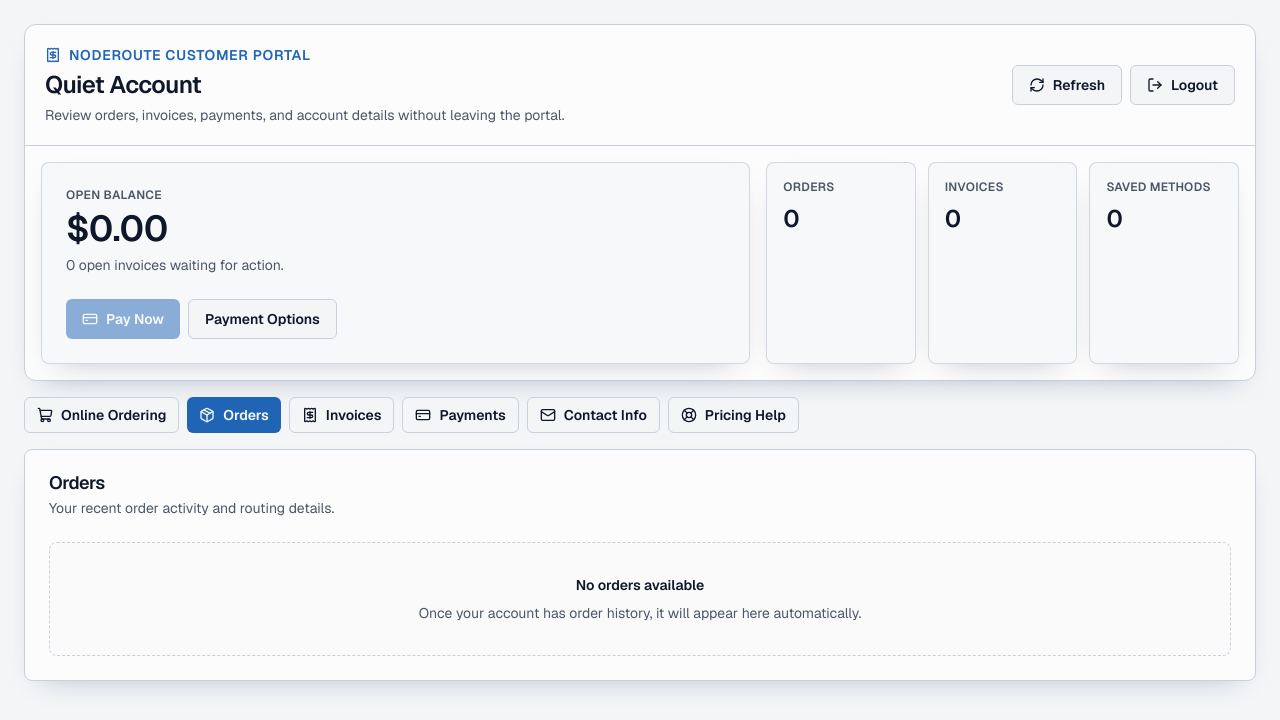
Test: CustomerPortalPage › shows empty states when the customer has no order or invoice history
Expected: the text "No orders available" is shown, [576, 576, 704, 594]
Click the button "Invoices": [342, 415] box [289, 397, 394, 433]
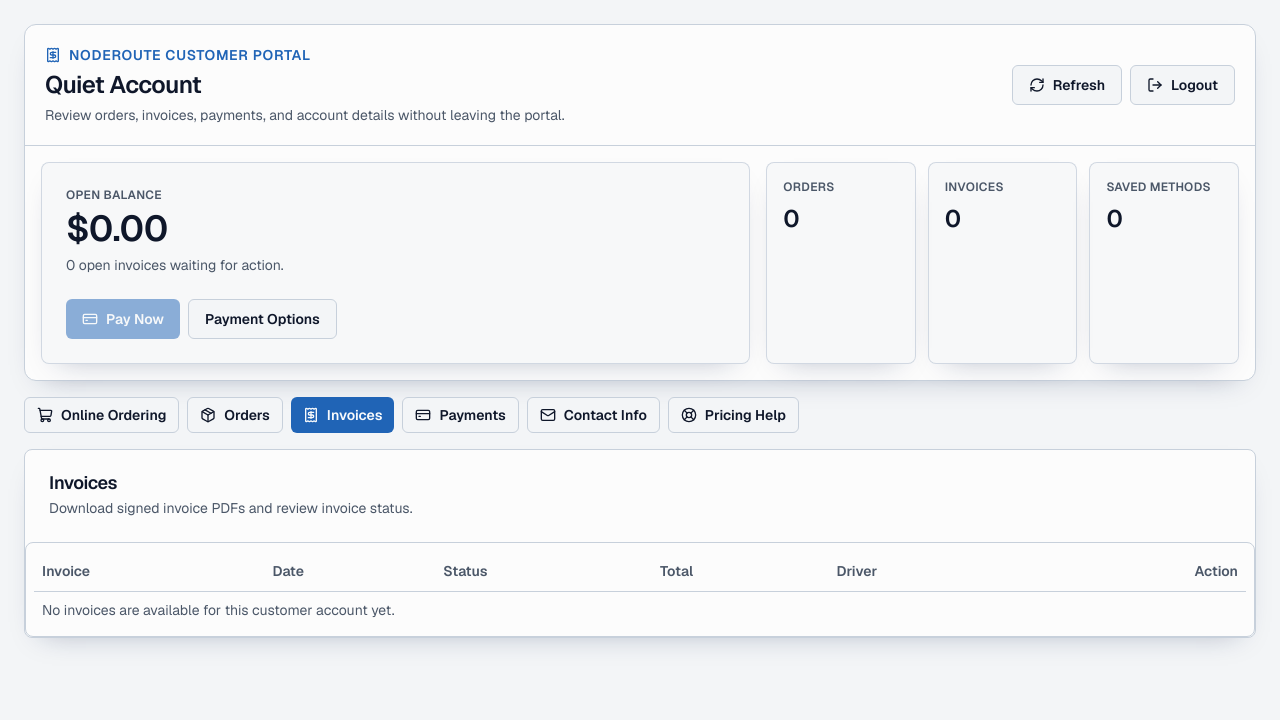
Expected: the text "No invoices are available for this customer account yet." is shown, [34, 591, 1246, 628]
